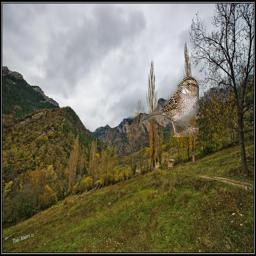Sparrow: (141, 77, 200, 138)
